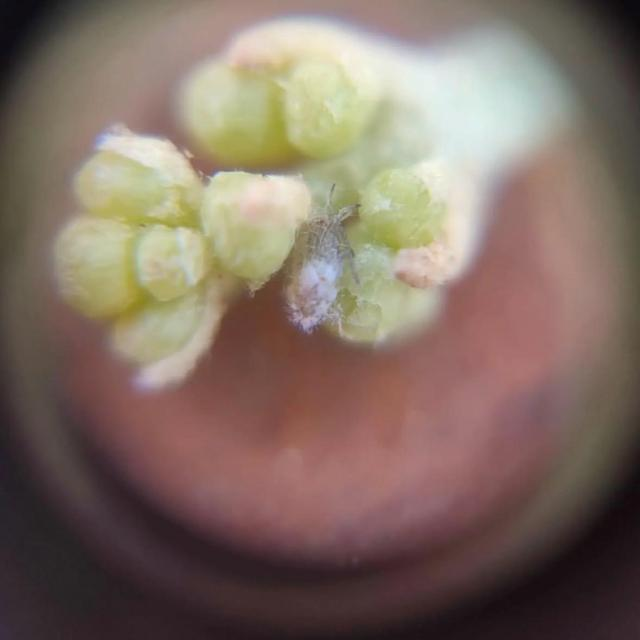Psyllid: (54, 20, 532, 389)
